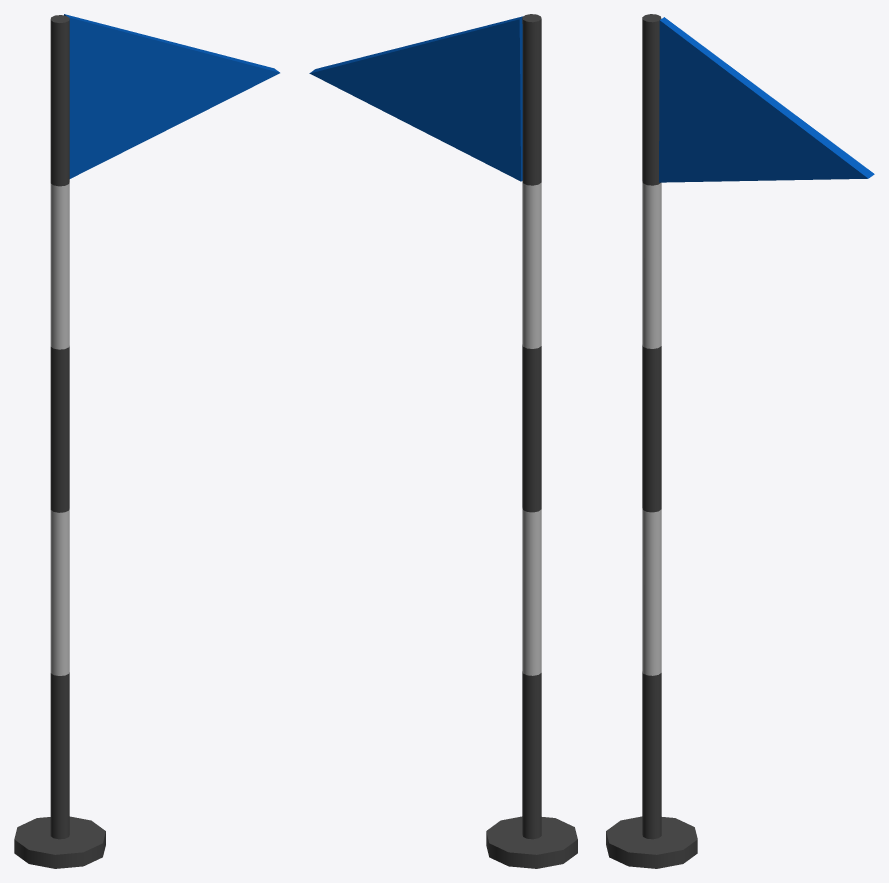
The model's file is Blue Flag.fbx.
3 renders of one model, left to right at view 1: azimuth 30°, elevation 25°; view 2: azimuth 150°, elevation 25°; view 3: azimuth 330°, elevation 25°, orthographic.
Visible parts, largest first — view 1: Blue Flag; view 2: Blue Flag; view 3: Blue Flag.
Part boxes in pixels (x1,y1,x2,y2): Blue Flag: [14, 14, 279, 868]; Blue Flag: [309, 14, 577, 868]; Blue Flag: [606, 14, 874, 868].
Bounding box in the file's own units: 0.303 × 0.9353 × 0.0956.
